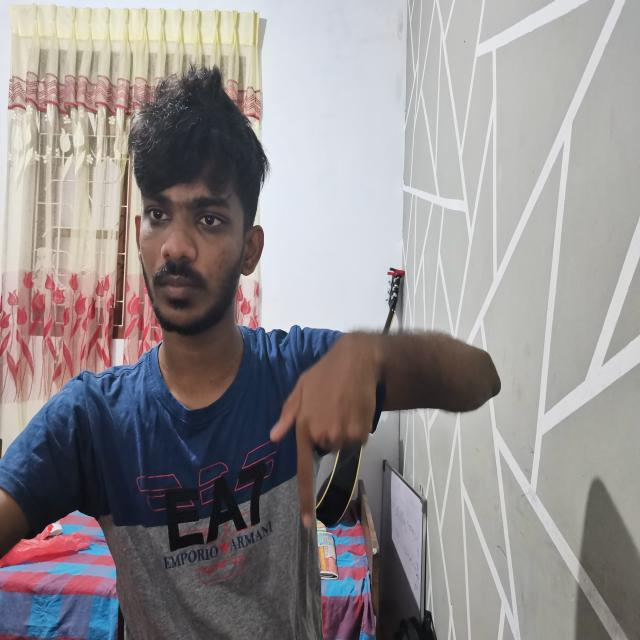Yes: (262, 323, 401, 542)
